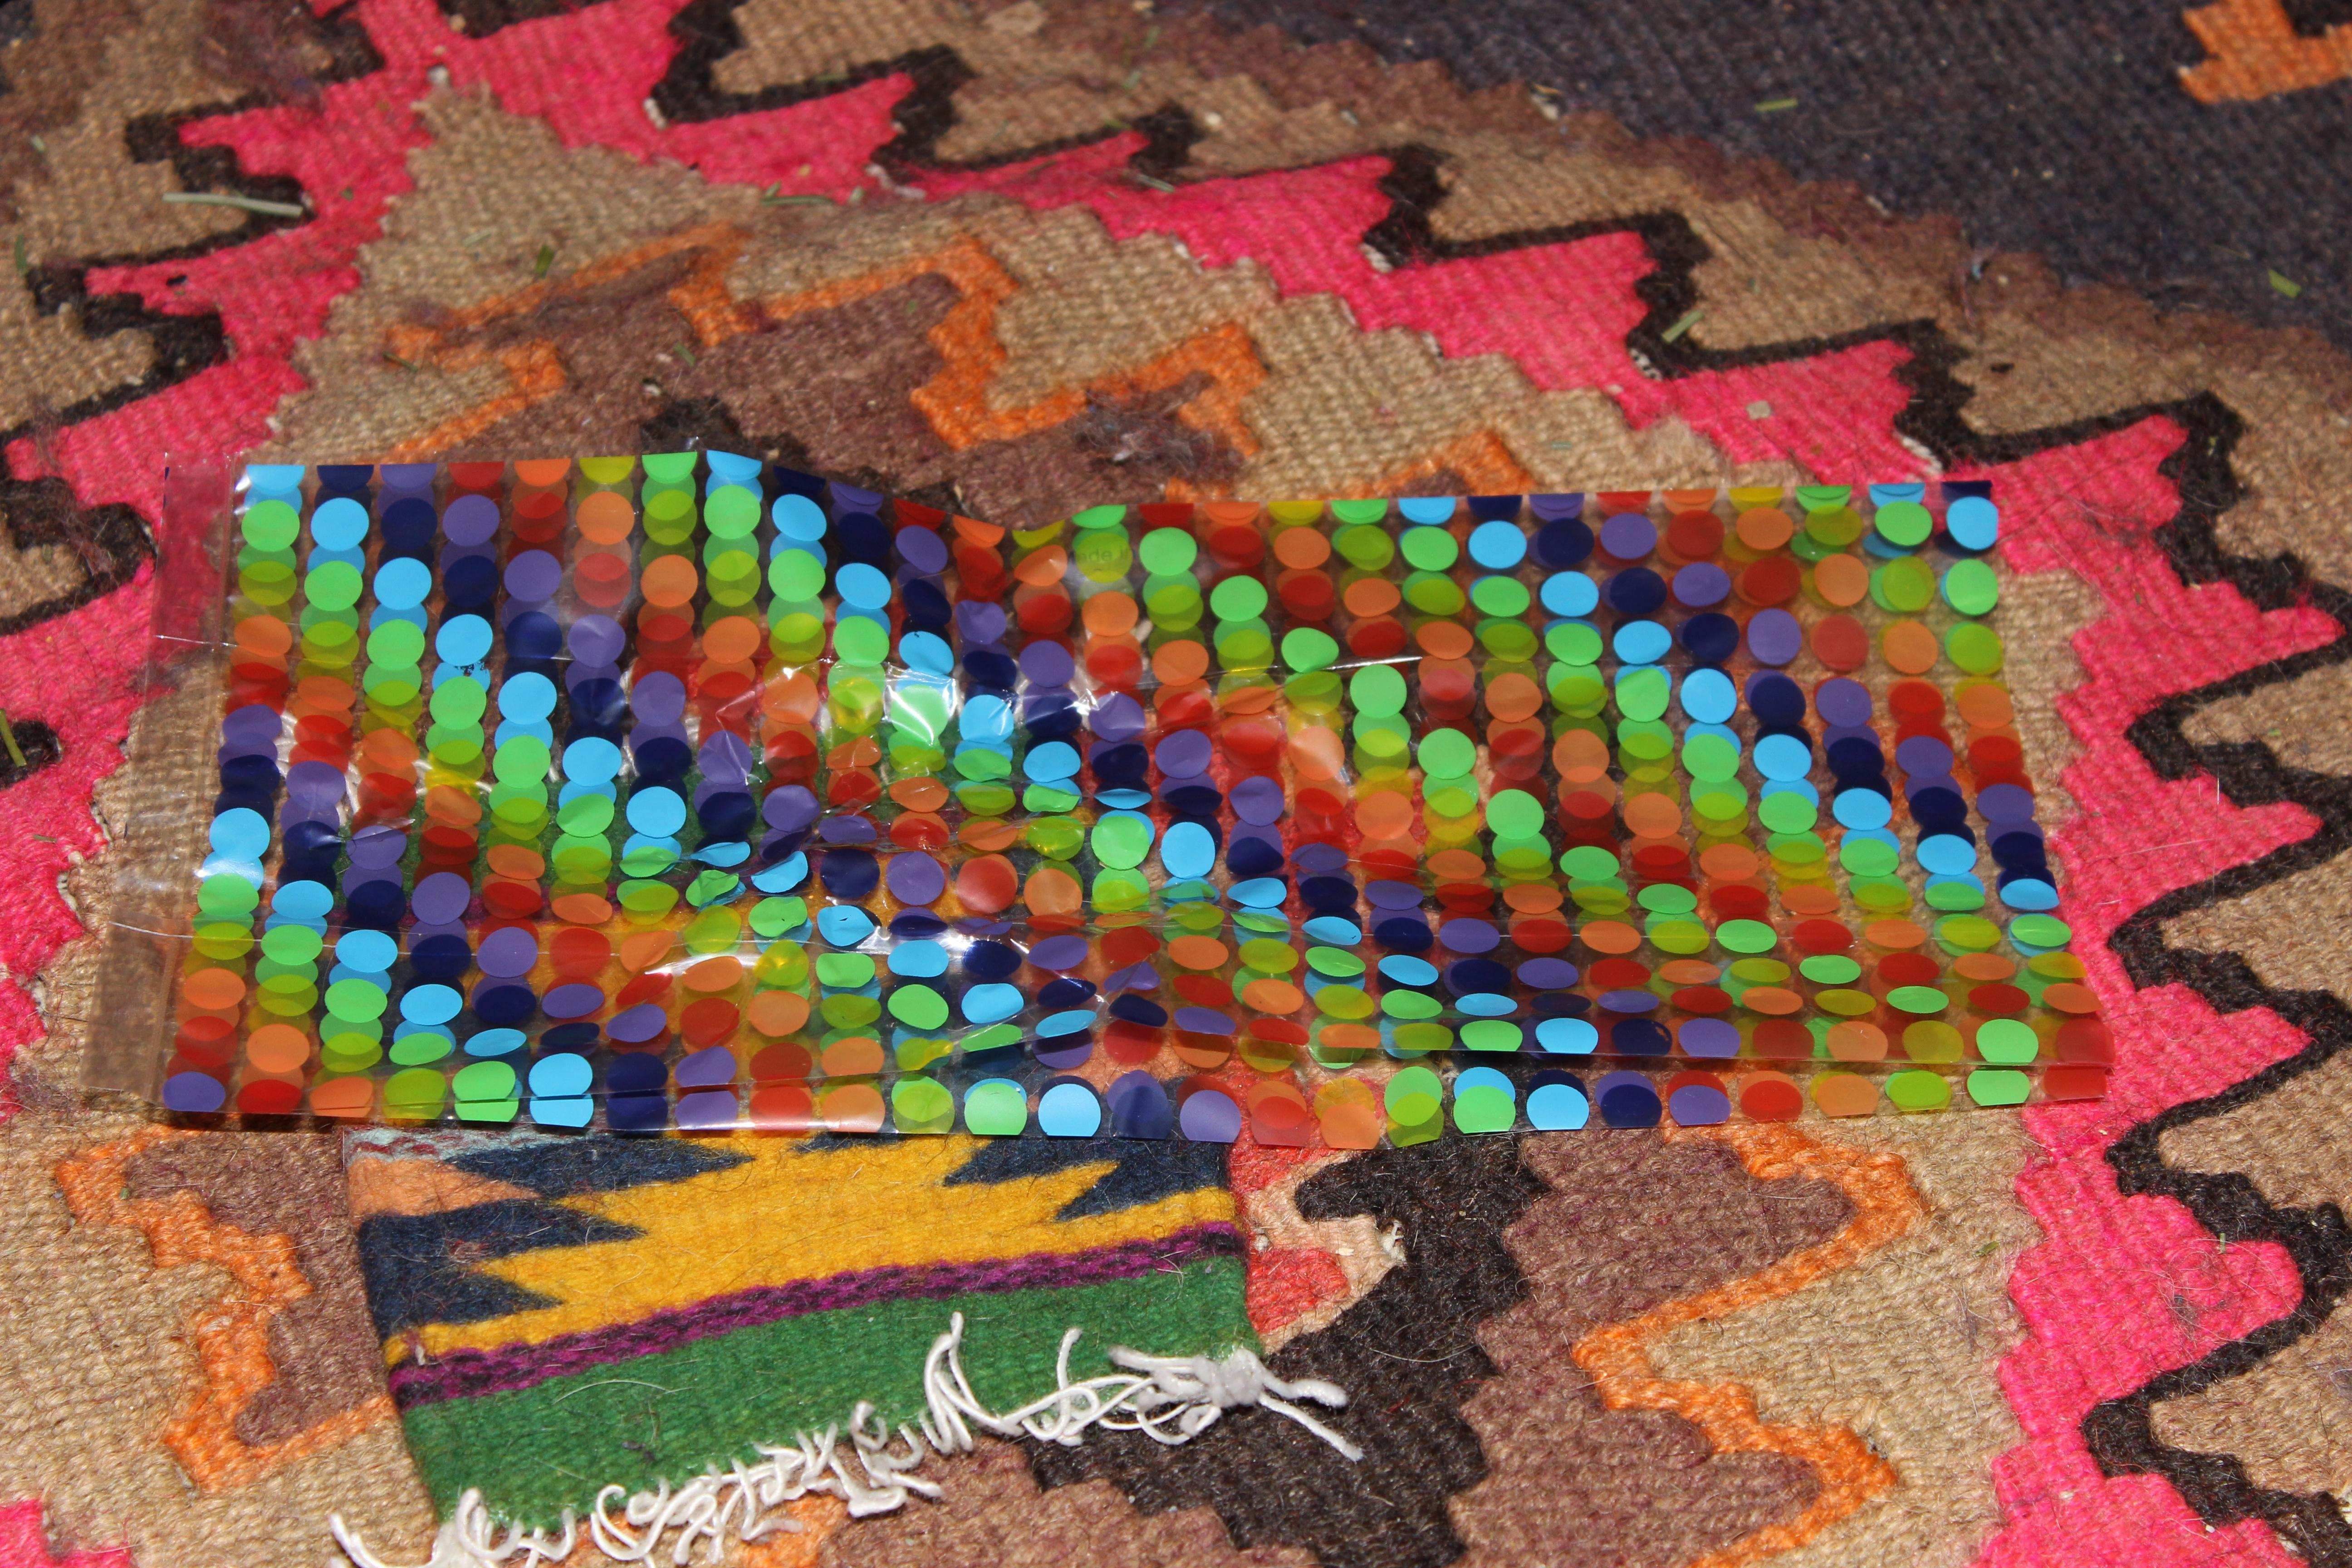giftBag: (65, 429, 2173, 1171)
